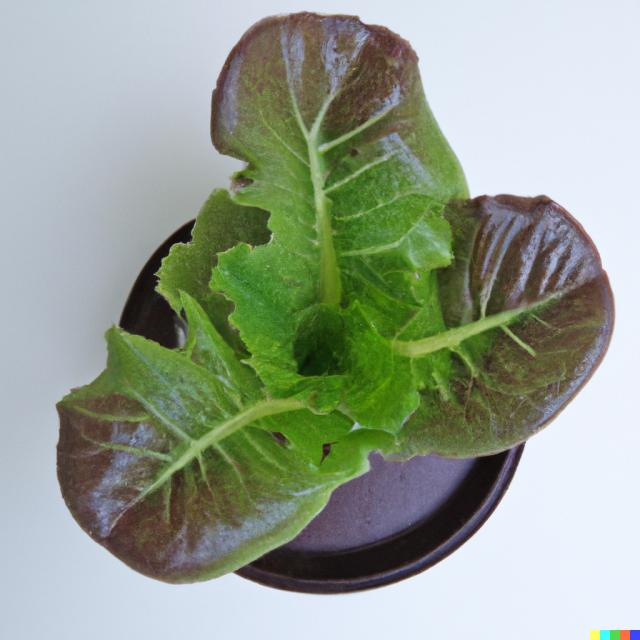-P: (44, 0, 623, 592)
